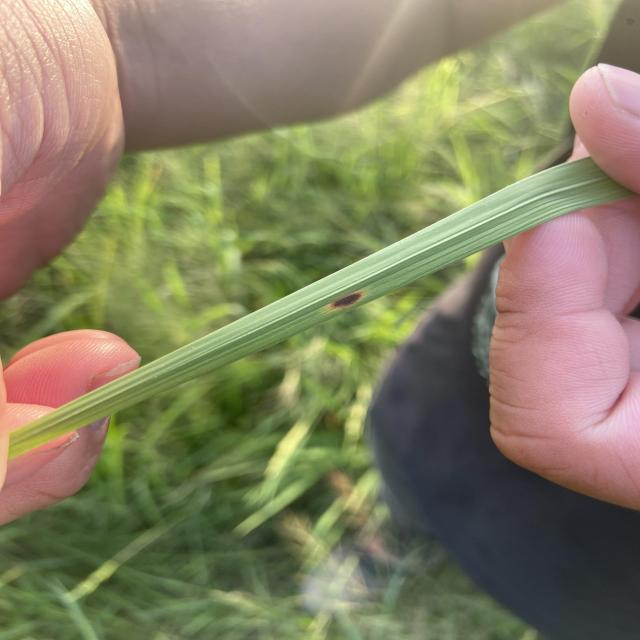Dom nau: (333, 293, 361, 307)
